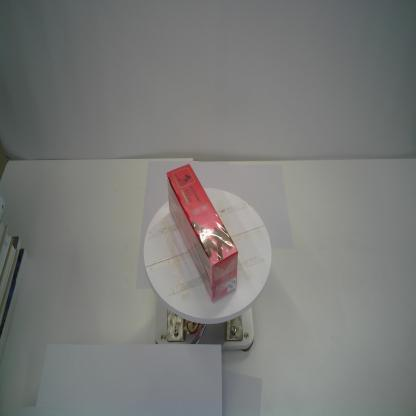Instant Drink: (166, 163, 239, 305)
